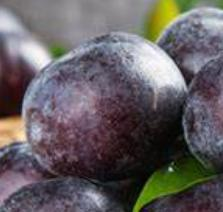plum_B: (22, 31, 188, 182)
